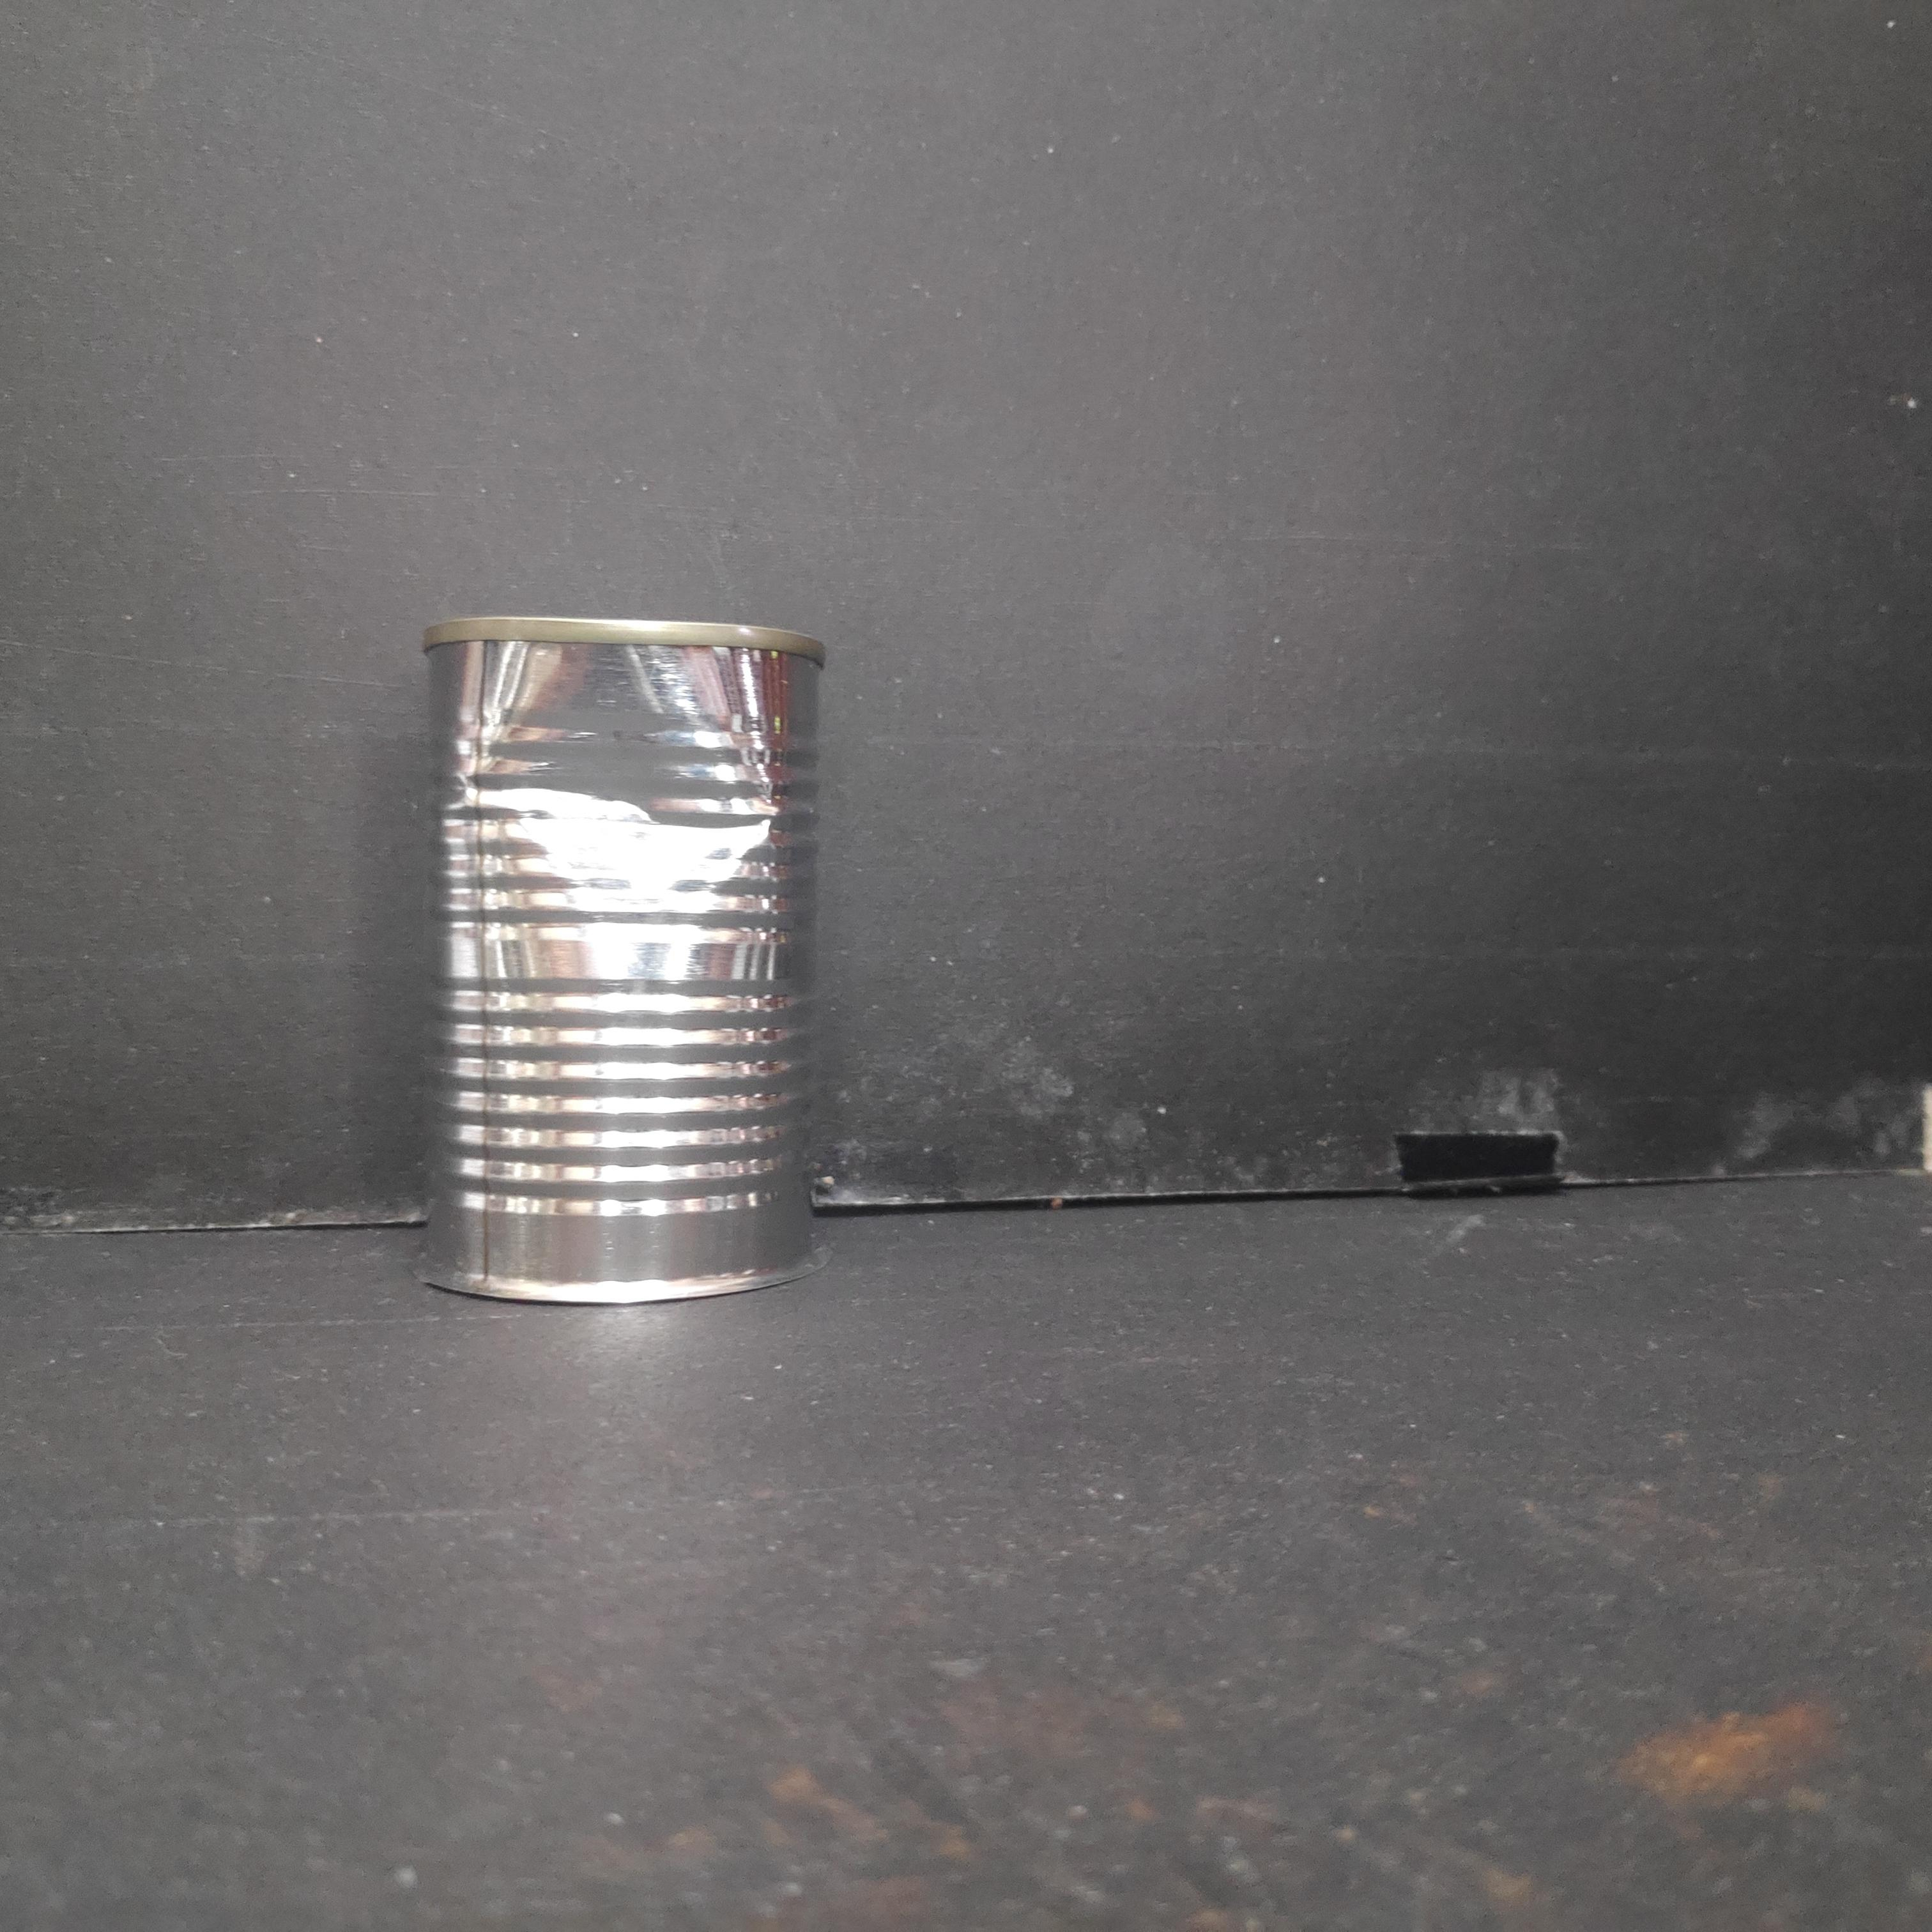Minor Defect: (400, 591, 832, 1315)
